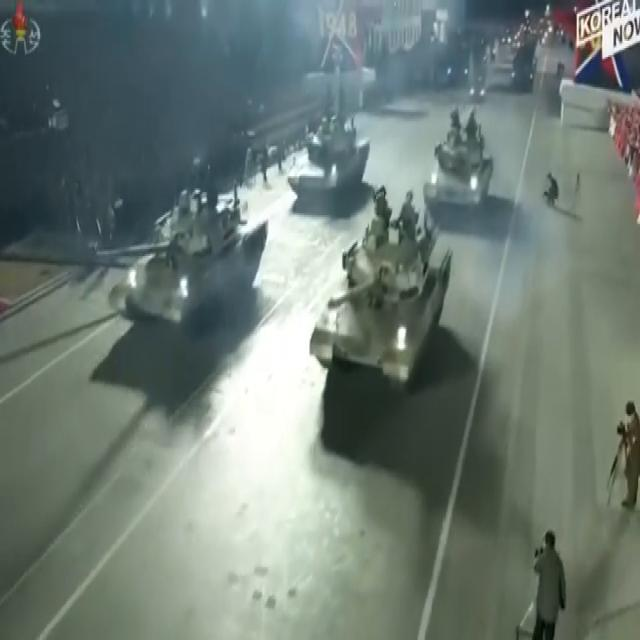north tank: (311, 182, 475, 418), (99, 164, 275, 369), (284, 80, 378, 222), (415, 96, 504, 242)
